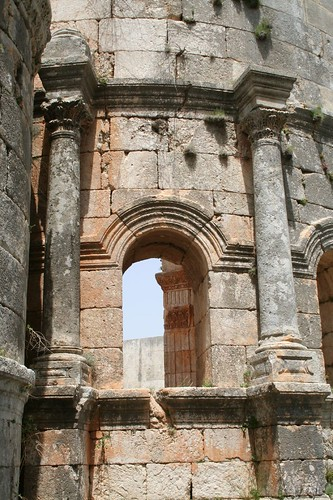building: (1, 1, 330, 498)
